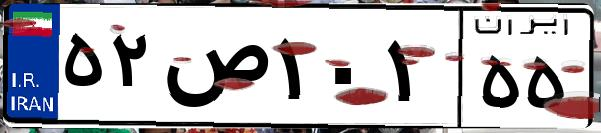0: (330, 28, 385, 110)
1: (270, 28, 330, 110), (385, 28, 445, 110)
2: (110, 28, 158, 98)
5: (57, 26, 110, 100), (475, 38, 525, 113), (525, 38, 570, 115)
ص: (158, 20, 270, 120)
